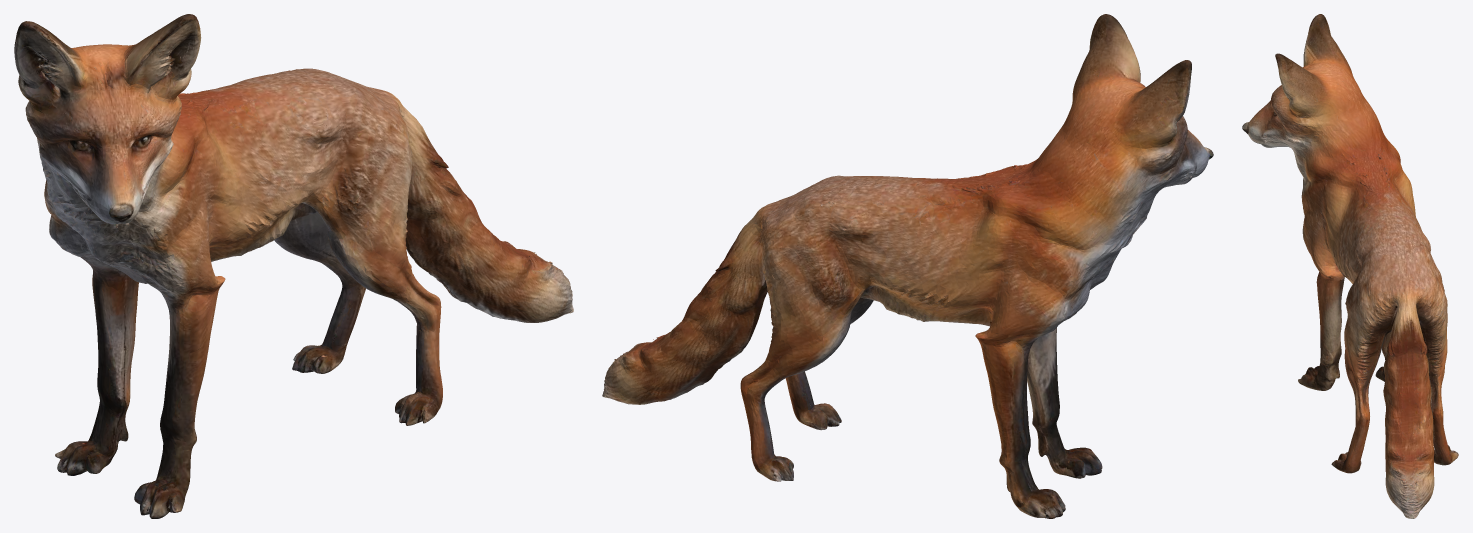
Rendered from EnergiaAguaPrefab.fbx.
3 views of the same model, side by side, from view 1: azimuth 30°, elevation 25°; view 2: azimuth 150°, elevation 25°; view 3: azimuth 270°, elevation 25° (orthographic). The views are drawn at different scales.
Visible parts, largest first — view 1: world; view 2: world; view 3: world.
Part boxes in pixels (x1=…): world: x1=14, y1=14, x2=573, y2=518; world: x1=602, y1=14, x2=1213, y2=518; world: x1=1242, y1=14, x2=1458, y2=518.
Size of the model in its own units: 198 by 157 by 93.44.
Materials: 1 (1 with a texture image).
